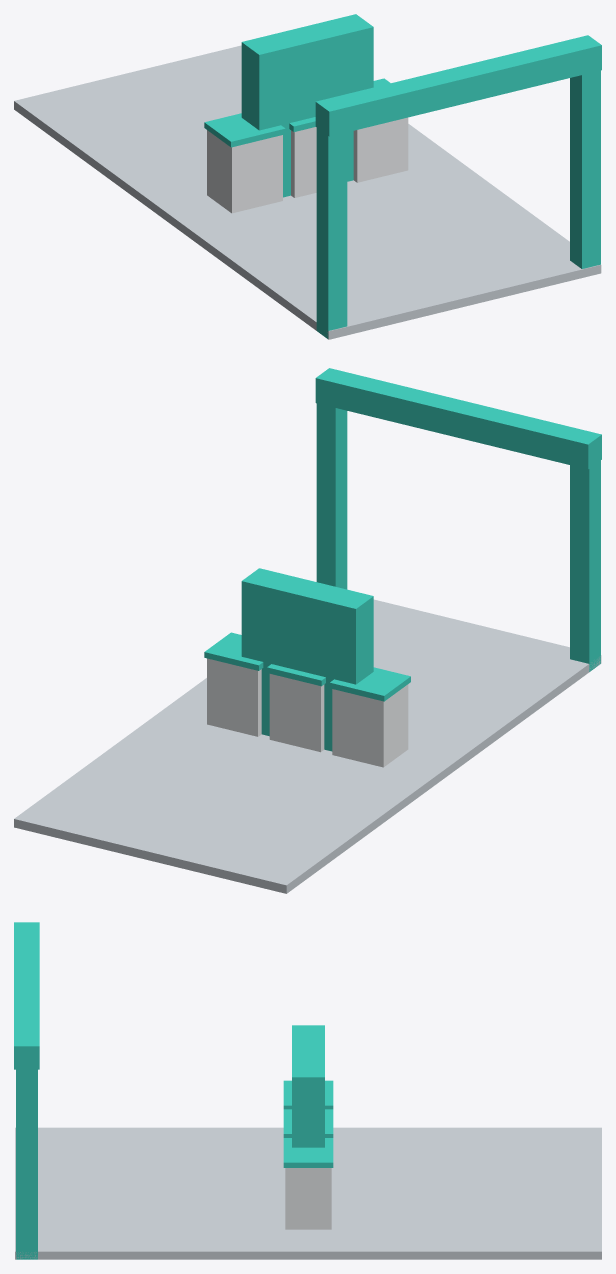
The picture shows the model from 3 angles, top to bottom: view 1: azimuth 30°, elevation 25°; view 2: azimuth 150°, elevation 25°; view 3: azimuth 270°, elevation 25°; orthographic projection. The views are drawn at different scales.
Visible parts, largest first — view 1: Exhibition Booth Concept; view 2: Exhibition Booth Concept; view 3: Exhibition Booth Concept.
Part boxes in pixels (x1=…): Exhibition Booth Concept: x1=14, y1=14, x2=601, y2=339; Exhibition Booth Concept: x1=14, y1=368, x2=601, y2=893; Exhibition Booth Concept: x1=14, y1=922, x2=601, y2=1259.
Size of the model in its own units: 4 by 3.2 by 8.01.
